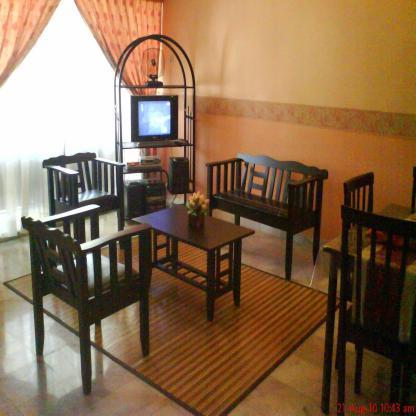kursi: (43, 152, 127, 214)
lampu: (20, 203, 157, 372), (205, 152, 321, 272)
tanaman: (138, 201, 247, 316)
tv: (129, 94, 181, 143)
